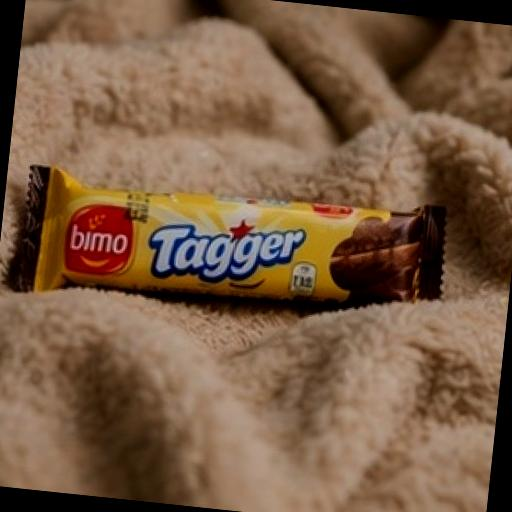tagger: (0, 91, 508, 453)
